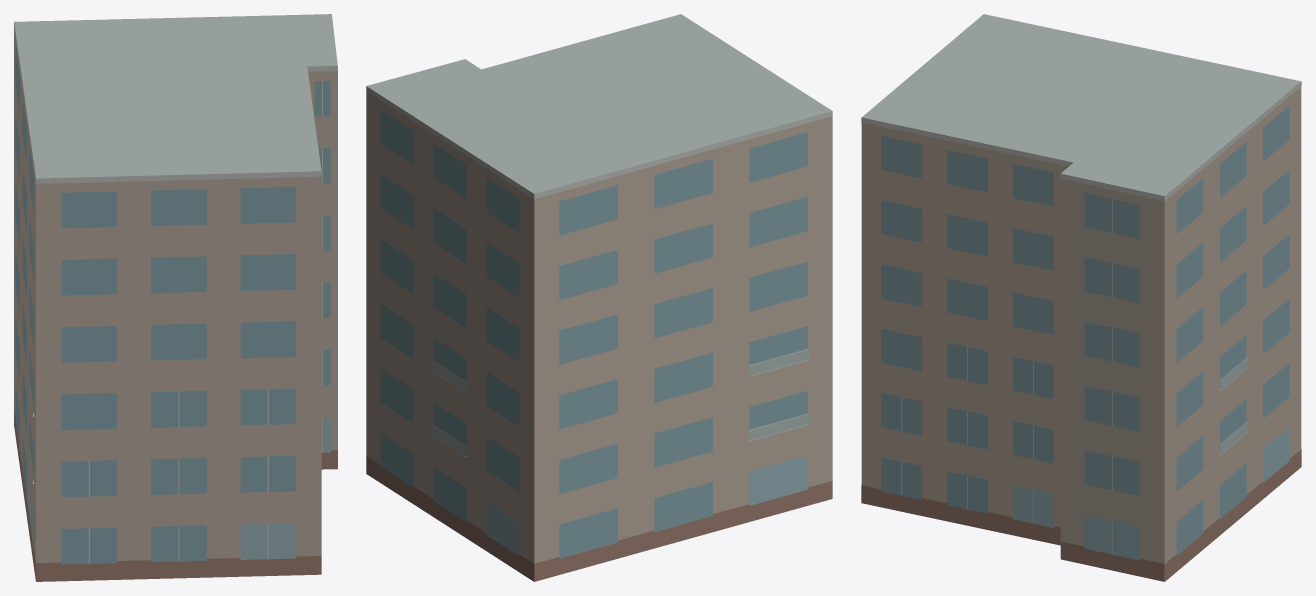
File: survey-upis-32842959.glb
3 renders of one model, left to right at view 1: azimuth 30°, elevation 25°; view 2: azimuth 150°, elevation 25°; view 3: azimuth 270°, elevation 25°, orthographic. The views are drawn at different scales.
Parts seen in each view (by area): view 1: survey-upis-32842959.tmp; view 2: survey-upis-32842959.tmp; view 3: survey-upis-32842959.tmp.
Part boxes in pixels (left/top/right/bottom): survey-upis-32842959.tmp: left=14, top=14, right=337, bottom=581; survey-upis-32842959.tmp: left=366, top=14, right=832, bottom=581; survey-upis-32842959.tmp: left=861, top=14, right=1301, bottom=581.
Size of the model in its own units: 18.55 by 18.3 by 18.93.
